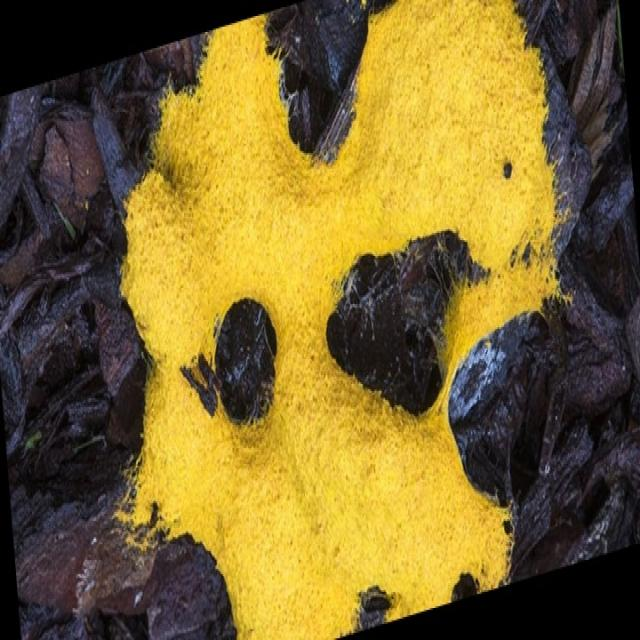Dog_vomit_slime_mold: (110, 0, 594, 636)
